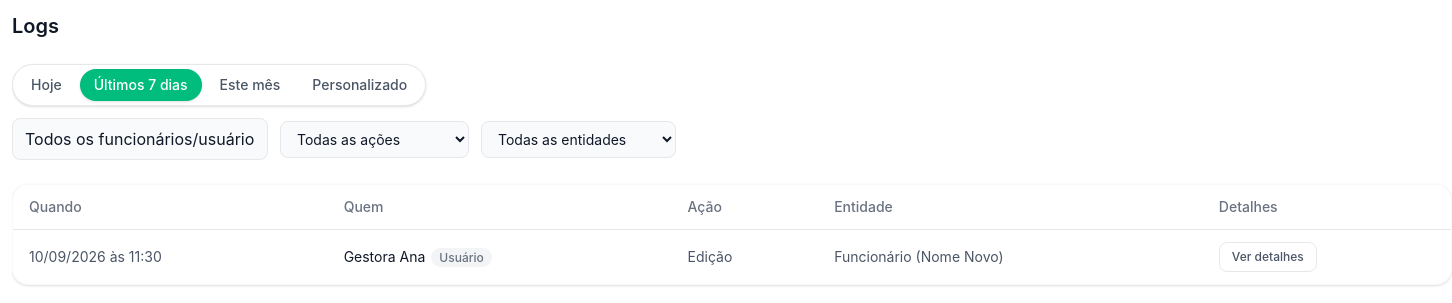
Test: AuditPage › o filtro de ator é populado a partir dos registros carregados
Click the 1st dropdown with placeholder "Buscar funcionário/usuário…": point(140, 139) [12,118,268,160]
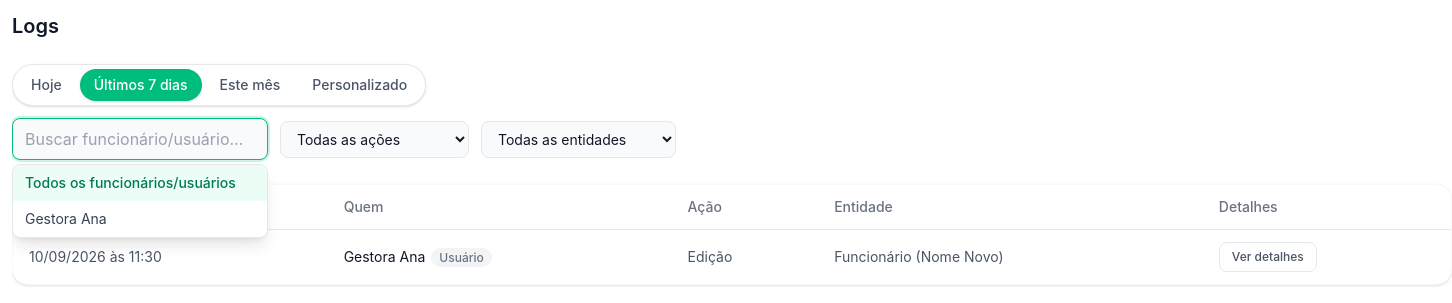
Result: the button "Gestora Ana" is shown at [13,201,267,237]
